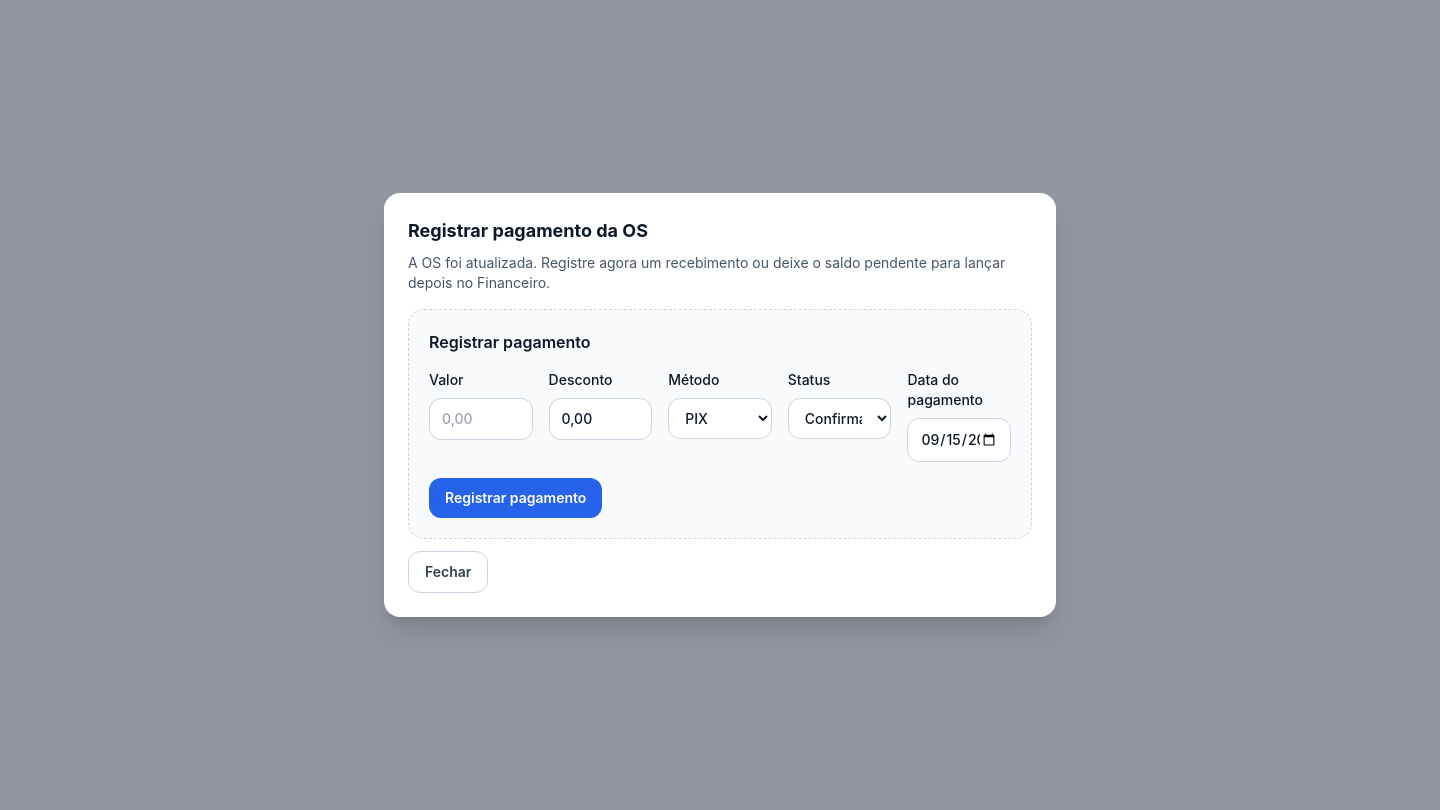
Scenario: WorkOrderFinancialActions › allows closing the payment prompt without registering a payment
The image size is (1440, 810).
Click the button "Fechar" at [448, 572], box 408,551 -> 488,593
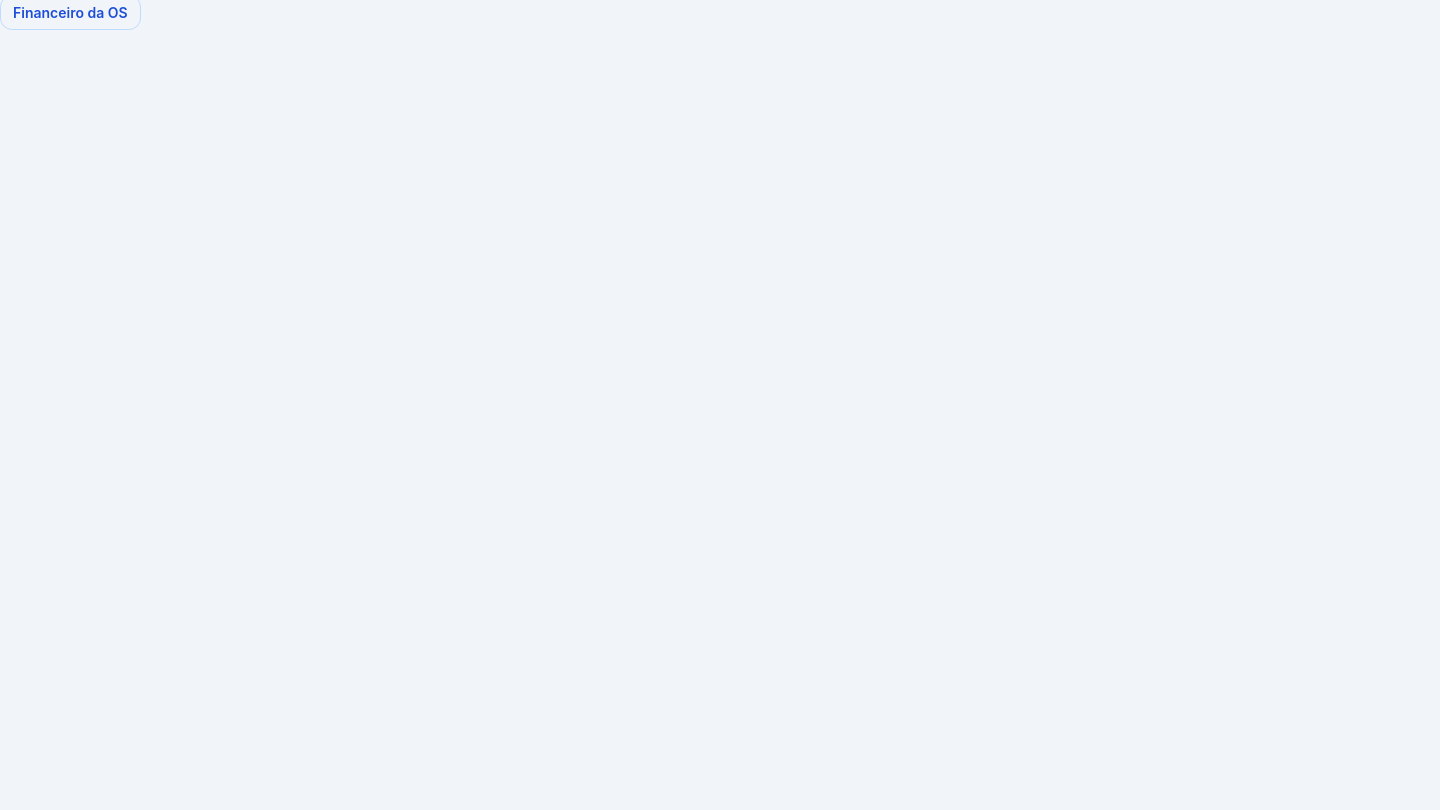
Expected: the dialog is gone
